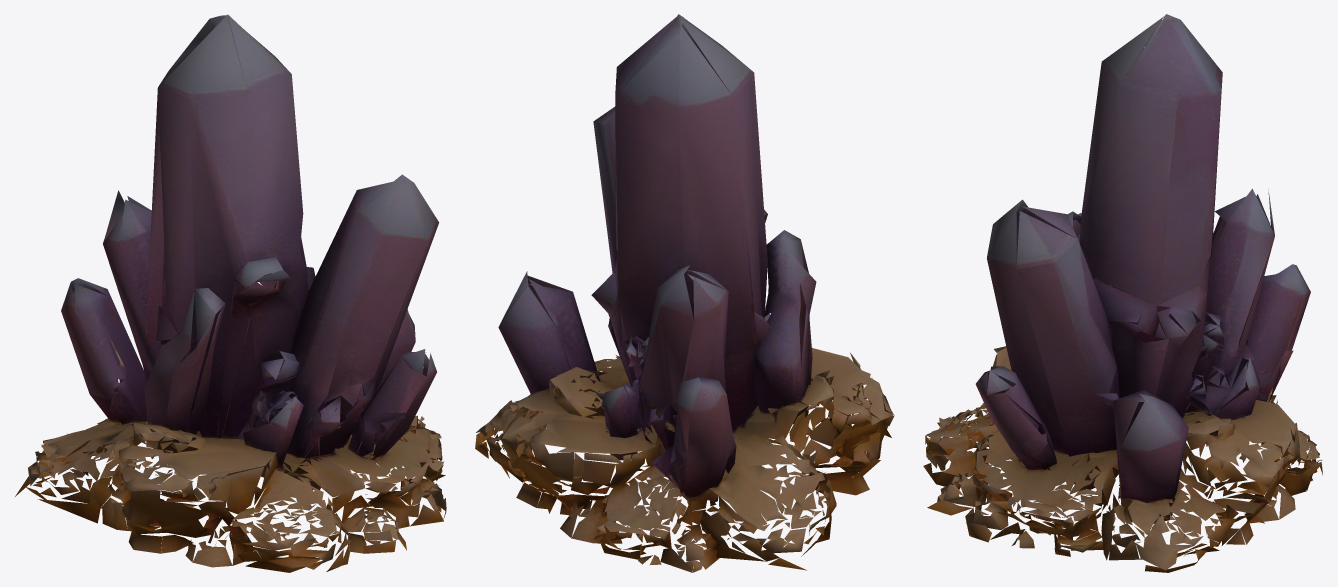
File: cav_resonant_crystal_cluster_a_LOD2.glb
3 renders of one model, left to right at view 1: azimuth 30°, elevation 25°; view 2: azimuth 150°, elevation 25°; view 3: azimuth 270°, elevation 25°, orthographic. The views are drawn at different scales.
Visible parts, largest first — view 1: tripo_node_47d5b845-be1a-4137-8bfe-d0635d554248; view 2: tripo_node_47d5b845-be1a-4137-8bfe-d0635d554248; view 3: tripo_node_47d5b845-be1a-4137-8bfe-d0635d554248.
Part boxes in pixels (box(x1,y1,x2,y2)): tripo_node_47d5b845-be1a-4137-8bfe-d0635d554248: box(15, 14, 446, 572); tripo_node_47d5b845-be1a-4137-8bfe-d0635d554248: box(475, 14, 894, 572); tripo_node_47d5b845-be1a-4137-8bfe-d0635d554248: box(923, 14, 1322, 572).
Size of the model in its own units: 0.8073 by 1 by 0.7626.
1 material, 1 textured.
